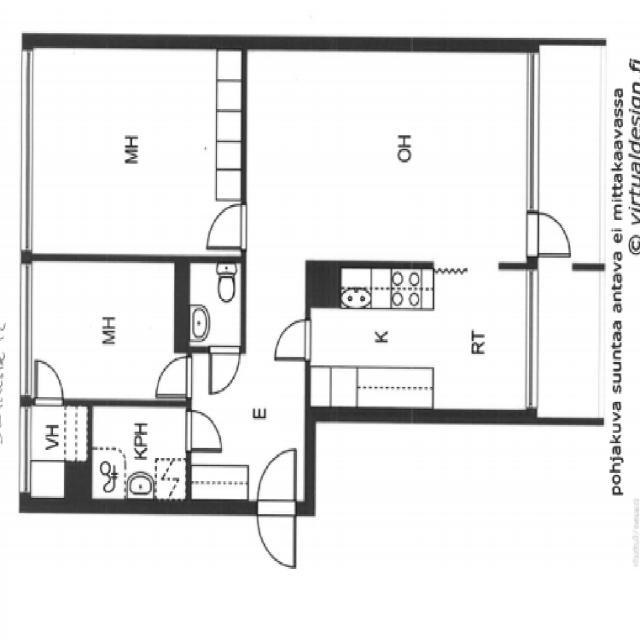door: (250, 442, 300, 574), (199, 196, 252, 251), (521, 207, 577, 256), (270, 312, 318, 366), (203, 341, 244, 398), (182, 406, 225, 457), (149, 351, 194, 399), (29, 355, 69, 406)
window: (9, 45, 42, 261), (520, 48, 546, 220), (14, 258, 37, 396), (524, 264, 540, 413), (16, 399, 33, 498)
zone: (242, 47, 533, 271), (24, 42, 242, 258), (306, 264, 534, 419), (24, 257, 183, 403), (88, 404, 190, 506), (23, 398, 88, 504), (182, 257, 244, 348)
